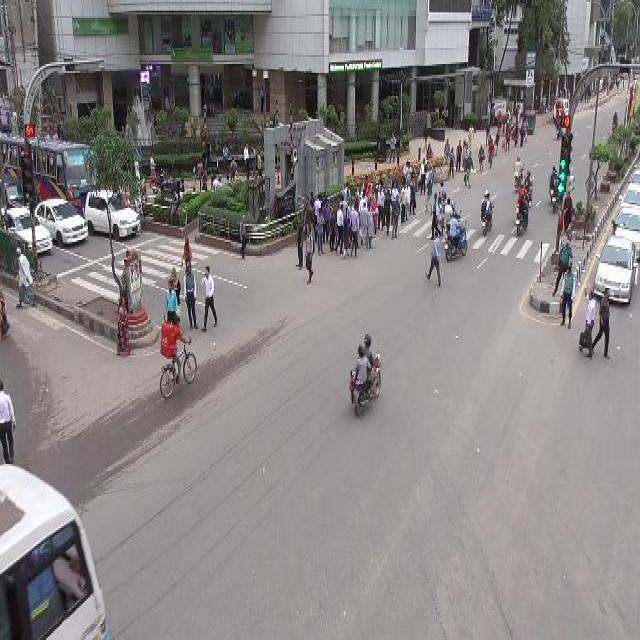bike: (348, 332, 386, 424), (159, 326, 197, 399), (441, 216, 471, 266), (513, 190, 532, 240), (479, 198, 496, 239)
vehicle: (590, 229, 639, 306), (86, 184, 143, 246), (32, 196, 93, 250)
